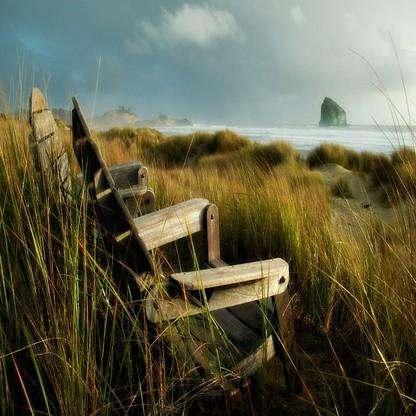obstacle: (52, 93, 300, 355)
